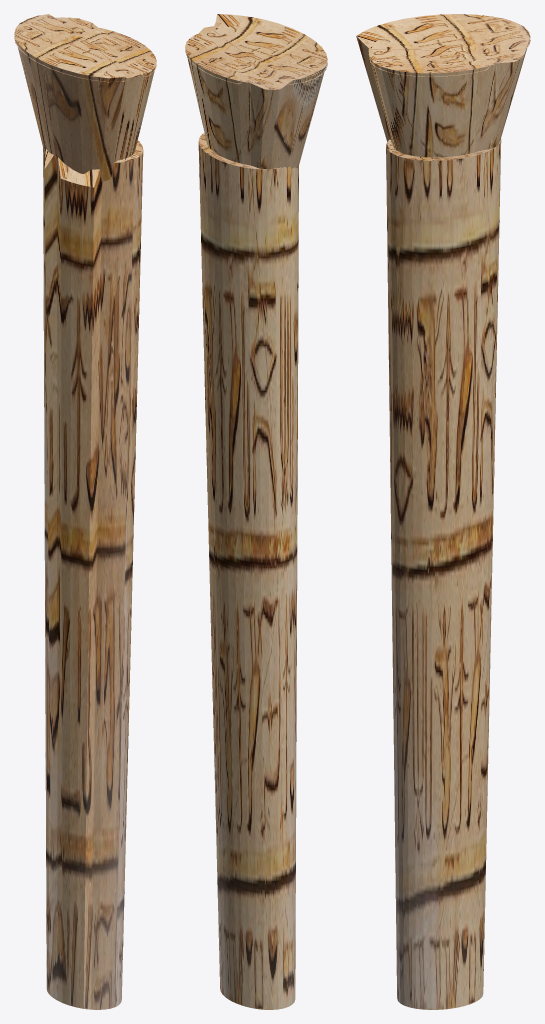
The model's file is 3amod 3 back.fbx.
3 renders of one model, left to right at view 1: azimuth 30°, elevation 25°; view 2: azimuth 210°, elevation 25°; view 3: azimuth 270°, elevation 25°, orthographic.
Visible parts, largest first — view 1: Cube.015; view 2: Cube.015; view 3: Cube.015.
Boxes of the visible parts, <box> form: Cube.015: <box>14,14,156,1009</box>; Cube.015: <box>185,14,327,1009</box>; Cube.015: <box>356,14,530,1009</box>.
Size of the model in its own units: 274 by 2395 by 395.
